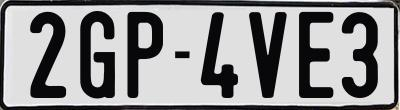2: (27, 12, 68, 104)
3: (342, 9, 383, 97)
4: (199, 11, 239, 103)
E: (299, 12, 335, 101)
G: (79, 9, 120, 100)
P: (126, 9, 162, 99)
V: (246, 12, 286, 99)
